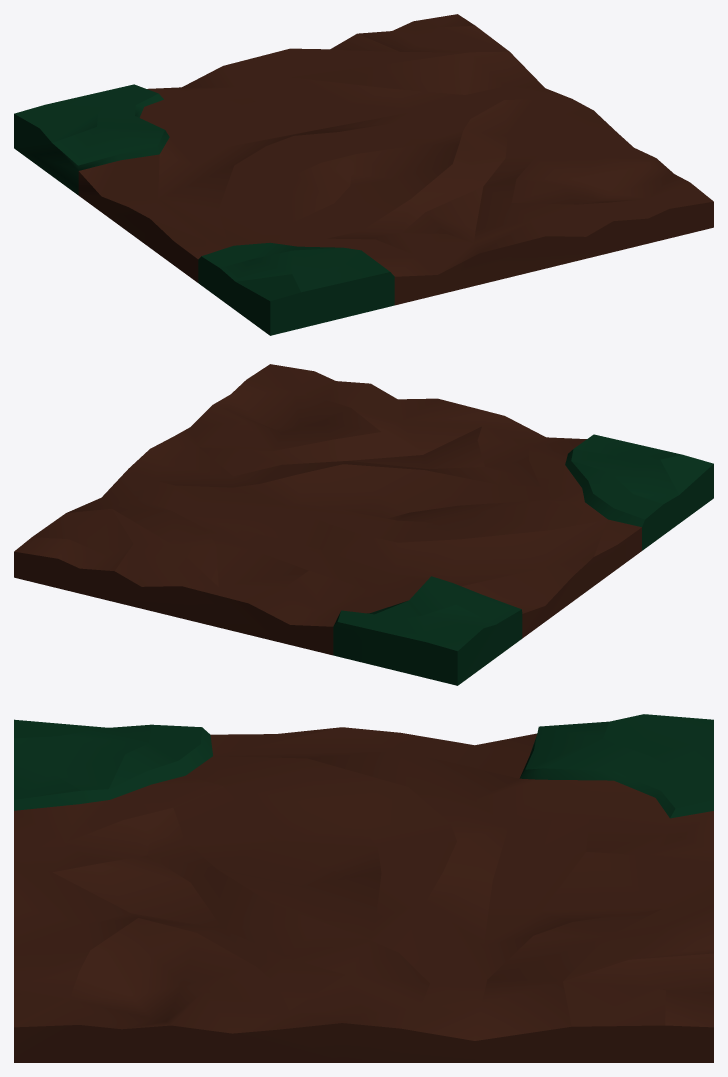
Rendered from Ground_Path_Entrance_L.fbx.
3 views of the same model, one above another, from view 1: azimuth 30°, elevation 25°; view 2: azimuth 150°, elevation 25°; view 3: azimuth 270°, elevation 25° (orthographic). The views are drawn at different scales.
Visible parts, largest first — view 1: Ground_Path_Entrance_L; view 2: Ground_Path_Entrance_L; view 3: Ground_Path_Entrance_L.
Boxes of the visible parts, x1,y1,x2,y2 form: Ground_Path_Entrance_L: (14,14,713,335); Ground_Path_Entrance_L: (14,364,713,685); Ground_Path_Entrance_L: (14,714,713,1062).
Bounding box in the file's own units: 147 × 13.39 × 147.
